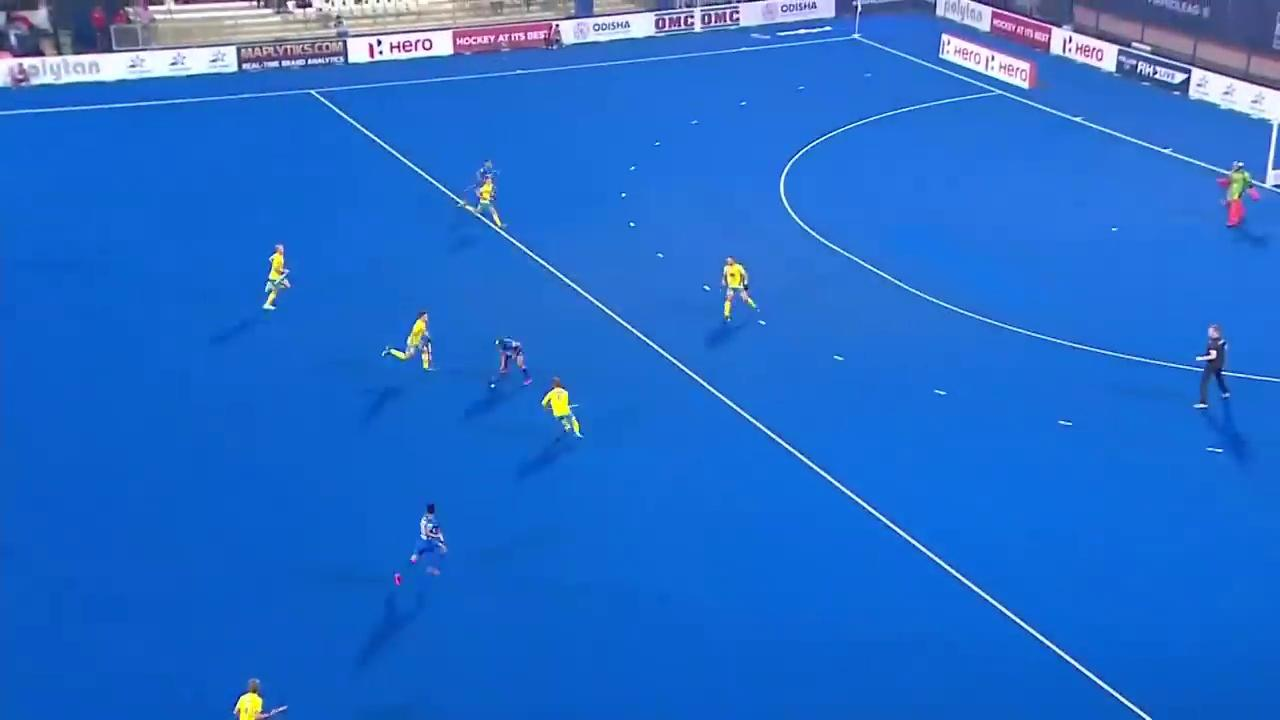ball: (485, 380, 499, 390)
